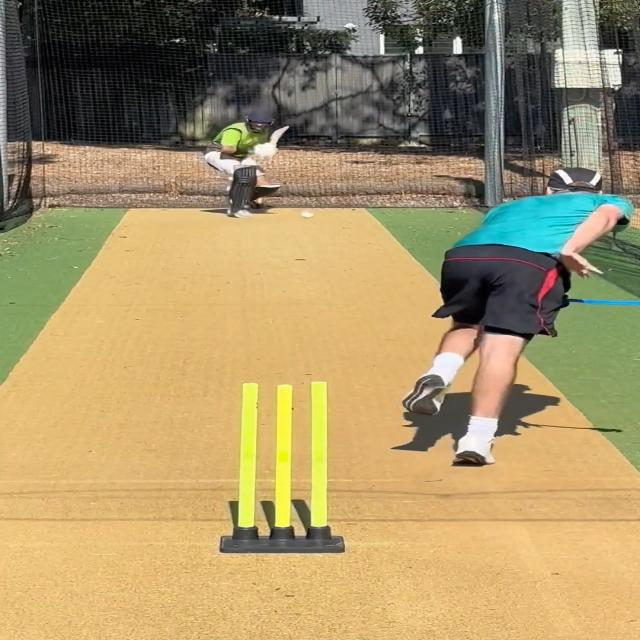ball: (298, 210, 316, 220)
stump: (218, 380, 348, 554)
